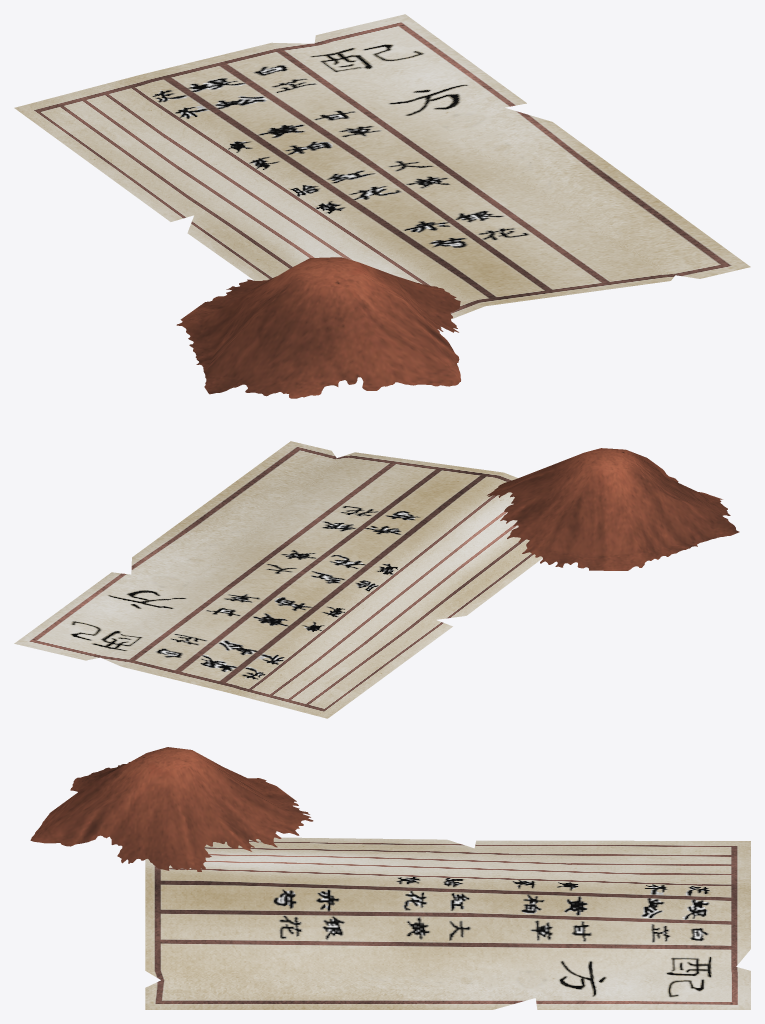
File: zhixuesanpeifang.FBX
3 renders of one model, top to bottom at view 1: azimuth 30°, elevation 25°; view 2: azimuth 150°, elevation 25°; view 3: azimuth 270°, elevation 25°, orthographic. The views are drawn at different scales.
Visible parts, largest first — view 1: zhixuesanpeifang; view 2: zhixuesanpeifang; view 3: zhixuesanpeifang.
Part boxes in pixels (bbox=[...]): zhixuesanpeifang: bbox=[14, 14, 750, 398]; zhixuesanpeifang: bbox=[14, 441, 739, 718]; zhixuesanpeifang: bbox=[30, 747, 750, 1009].
Bounding box in the file's own units: 25.06 × 3.89 × 31.86.
